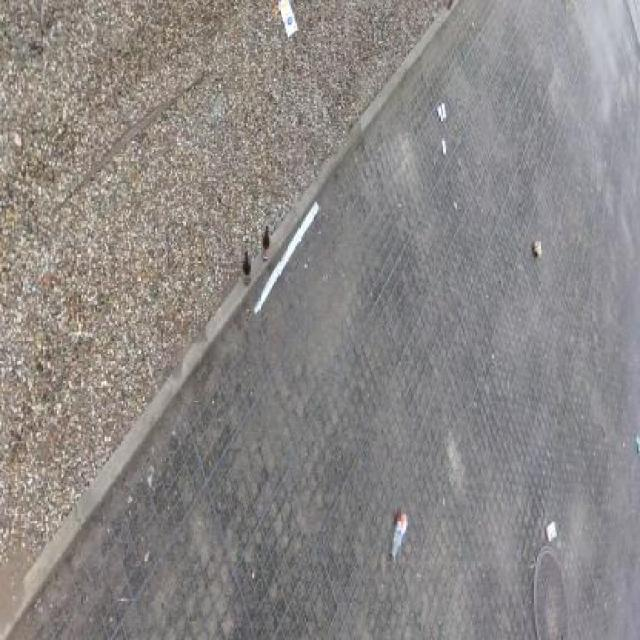Garbage: (254, 200, 320, 314), (389, 509, 409, 563), (278, 0, 299, 40), (242, 251, 251, 285), (545, 519, 557, 543), (262, 225, 270, 261), (533, 240, 543, 259), (437, 105, 443, 121), (446, 0, 454, 10), (441, 102, 446, 117), (636, 434, 639, 455), (442, 139, 446, 154)
